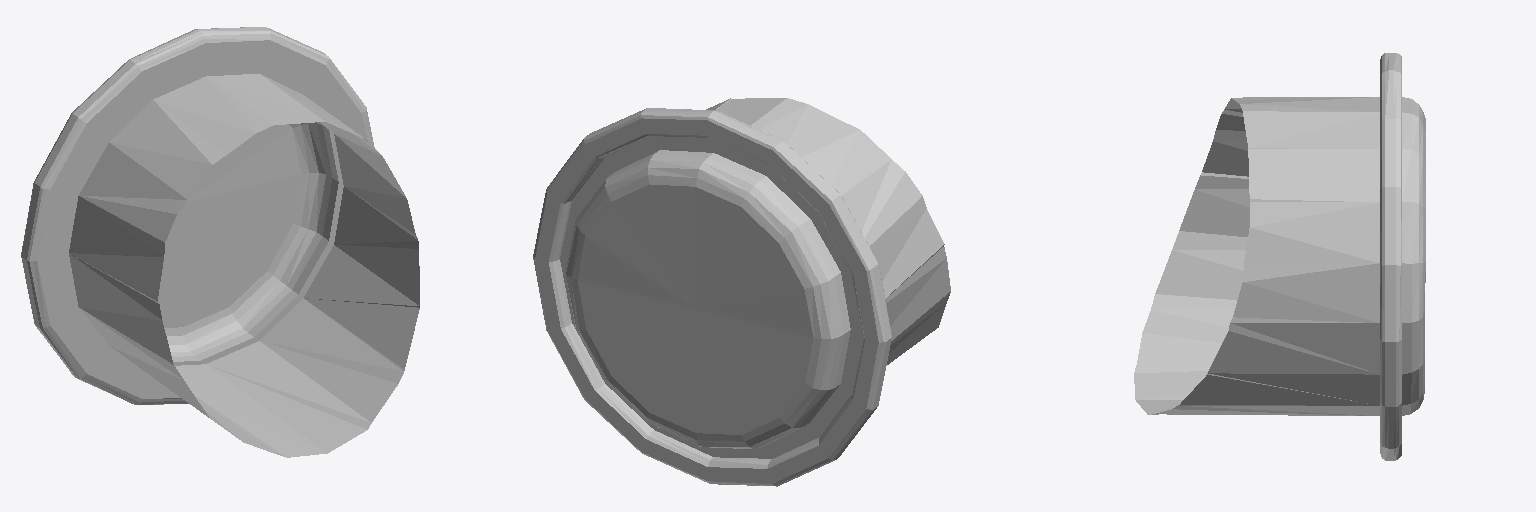
The model's file is monitoring_unit_1.obj.
3 views of the same model, side by side, from view 1: azimuth 30°, elevation 25°; view 2: azimuth 150°, elevation 25°; view 3: azimuth 270°, elevation 25° (orthographic).
Parts seen in each view (by area): view 1: fuel_unit; view 2: fuel_unit; view 3: fuel_unit.
Boxes of the visible parts, x1,y1,x2,y2 form: fuel_unit: [21, 27, 419, 457]; fuel_unit: [533, 98, 950, 486]; fuel_unit: [1134, 53, 1425, 460].
Bounding box in the file's own units: 0.0003 × 0.0003 × 0.0002.